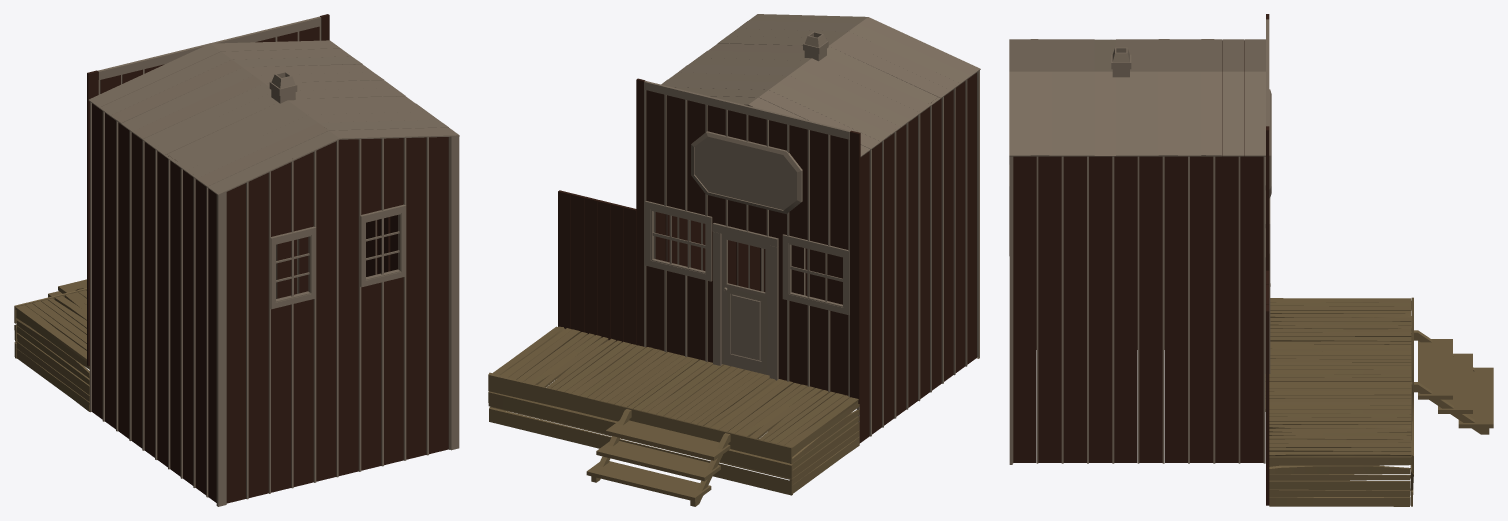
File: Saloon.fbx
The picture shows the model from 3 angles, left to right: view 1: azimuth 30°, elevation 25°; view 2: azimuth 150°, elevation 25°; view 3: azimuth 270°, elevation 25°; orthographic projection. The views are drawn at different scales.
Visible parts, largest first — view 1: Saloon.003, Saloon, Saloon.004, Saloon.001, Saloon.002; view 2: Saloon.002, Saloon.001, Saloon.003, Saloon, Saloon.004, Saloon.005; view 3: Saloon.003, Saloon.001, Saloon.004, Saloon, Saloon.002.
Part boxes in pixels (x1=…): Saloon.003: x1=92, y1=103, x2=448, y2=503; Saloon: x1=89, y1=16, x2=459, y2=506; Saloon.004: x1=88, y1=40, x2=459, y2=195; Saloon.001: x1=14, y1=279, x2=89, y2=411; Saloon.002: x1=87, y1=14, x2=329, y2=366; Saloon.002: x1=558, y1=78, x2=860, y2=403; Saloon.001: x1=488, y1=326, x2=859, y2=506; Saloon.003: x1=645, y1=72, x2=976, y2=443; Saloon: x1=644, y1=31, x2=979, y2=436; Saloon.004: x1=661, y1=14, x2=980, y2=156; Saloon.005: x1=645, y1=201, x2=849, y2=315; Saloon.003: x1=1013, y1=40, x2=1263, y2=462; Saloon.001: x1=1265, y1=297, x2=1493, y2=506; Saloon.004: x1=1009, y1=39, x2=1265, y2=156; Saloon: x1=1009, y1=19, x2=1271, y2=464; Saloon.002: x1=1266, y1=14, x2=1269, y2=505.
Bounding box in the file's own units: 686 × 721 × 886.
